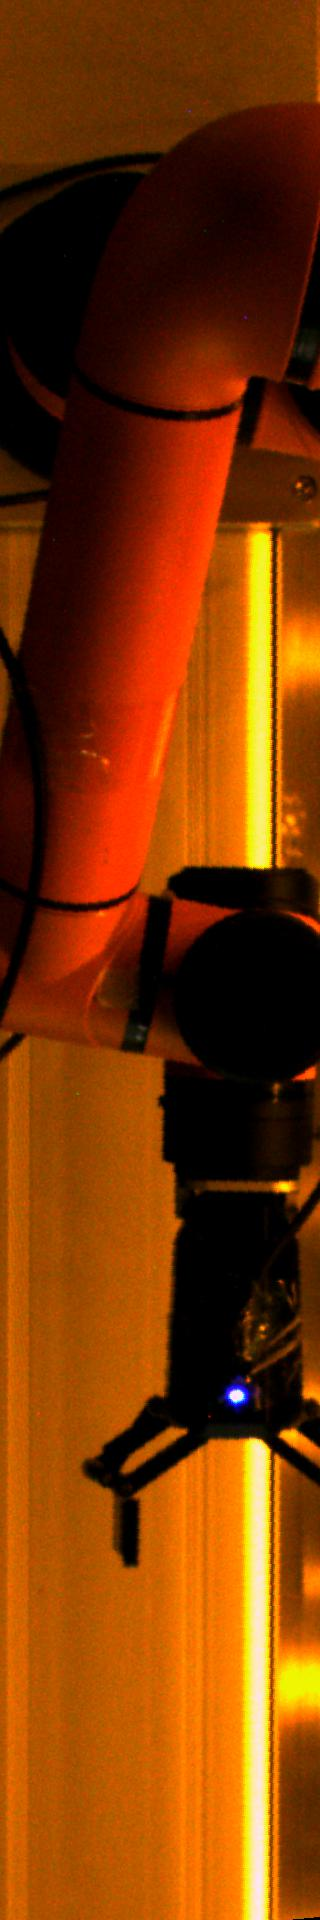keyPoint_1: (221, 1378, 251, 1407)
